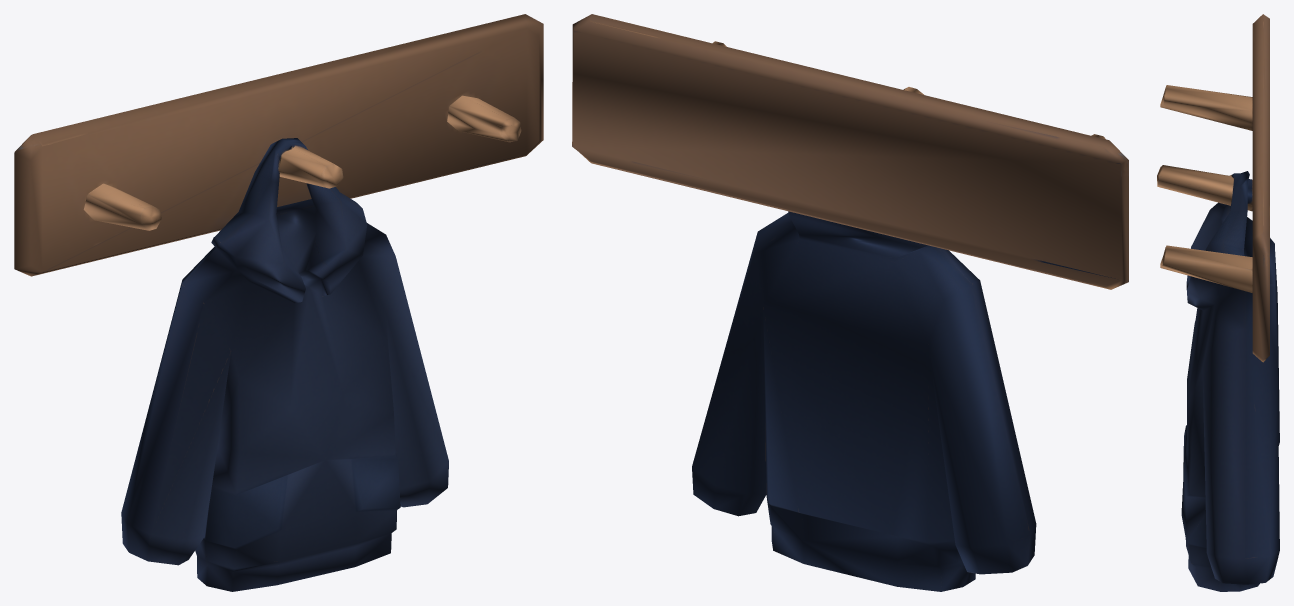
File: coat_hooks.fbx
3 views of the same model, side by side, from view 1: azimuth 30°, elevation 25°; view 2: azimuth 150°, elevation 25°; view 3: azimuth 270°, elevation 25° (orthographic). The views are drawn at different scales.
Parts seen in each view (by area): view 1: Mesh_0; view 2: Mesh_0; view 3: Mesh_0.
Boxes of the visible parts, left/top/right/bottom form: Mesh_0: left=14, top=14, right=543, bottom=591; Mesh_0: left=572, top=14, right=1128, bottom=591; Mesh_0: left=1157, top=14, right=1279, bottom=591.
Size of the model in its own units: 96.53 by 82.23 by 21.34.
Materials: 1 (1 with a texture image).
